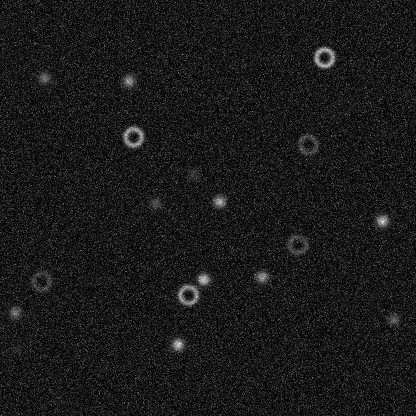Ring: (29, 269, 53, 293), (312, 45, 336, 69), (285, 232, 309, 256), (121, 124, 145, 148), (296, 132, 320, 156), (176, 282, 200, 306)
Spot: (385, 311, 401, 327), (36, 69, 52, 85), (120, 72, 136, 88), (253, 268, 269, 284), (195, 271, 211, 287), (7, 304, 23, 320), (8, 341, 24, 357), (185, 166, 201, 182), (211, 193, 227, 209), (147, 194, 163, 210), (374, 212, 390, 228), (169, 336, 185, 352)
